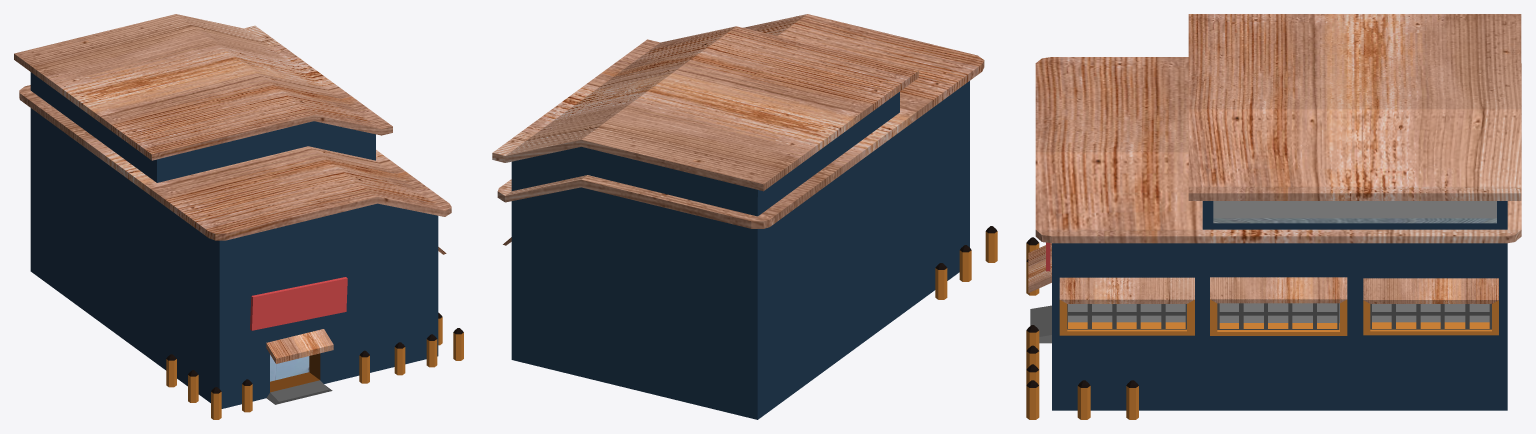
Rendered from building1.fbx.
3 renders of one model, left to right at view 1: azimuth 30°, elevation 25°; view 2: azimuth 150°, elevation 25°; view 3: azimuth 270°, elevation 25°, orthographic. The views are drawn at different scales.
Visible parts, largest first — view 1: 1.001; view 2: 1.001; view 3: 1.001.
Boxes of the visible parts, x1,y1,x2,y2 form: 1.001: [14, 14, 463, 419]; 1.001: [492, 14, 997, 419]; 1.001: [1026, 14, 1521, 419].
Bounding box in the file's own units: 453 × 374 × 642.
